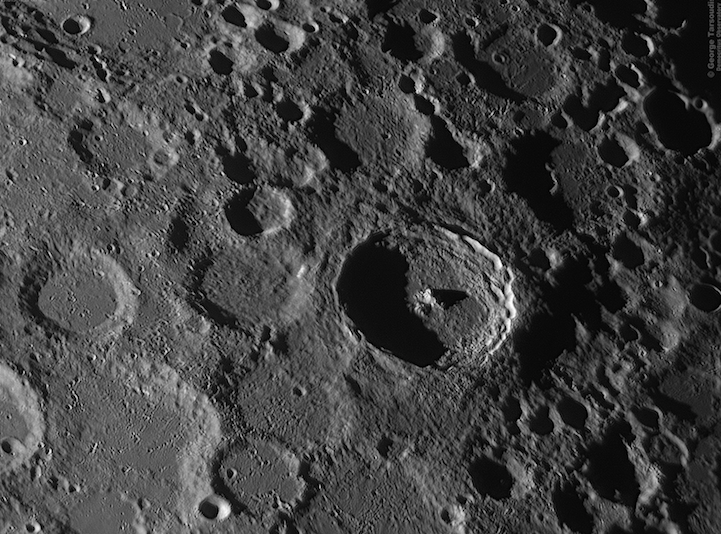crater: (310, 201, 539, 408), (161, 400, 336, 531), (10, 236, 154, 361), (58, 92, 192, 207), (46, 3, 117, 62), (187, 484, 242, 526)
